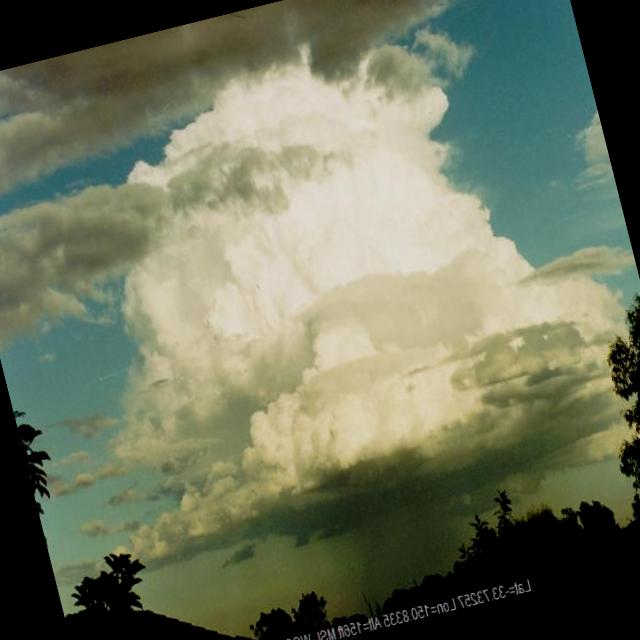cumulonimbus: (3, 0, 640, 605)
